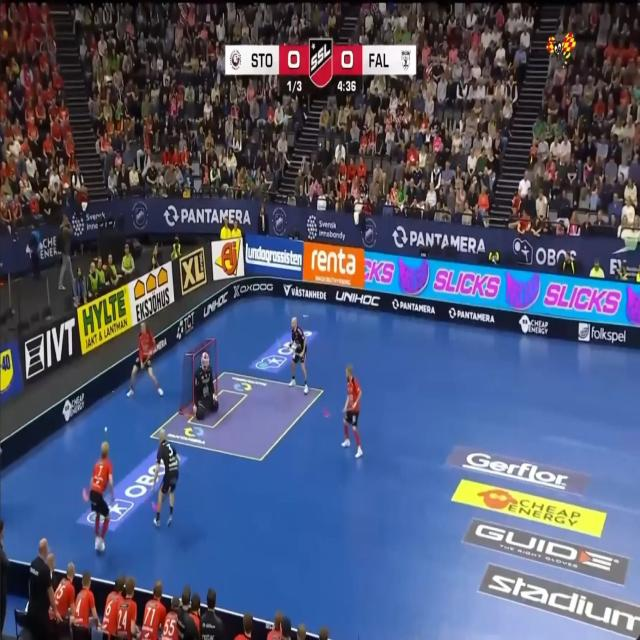Balls: (104, 426, 107, 432)
player: (89, 442, 114, 550), (127, 322, 163, 395), (152, 429, 179, 526), (342, 366, 362, 458), (193, 352, 218, 419), (139, 580, 166, 639), (72, 572, 99, 629), (289, 317, 308, 393)
